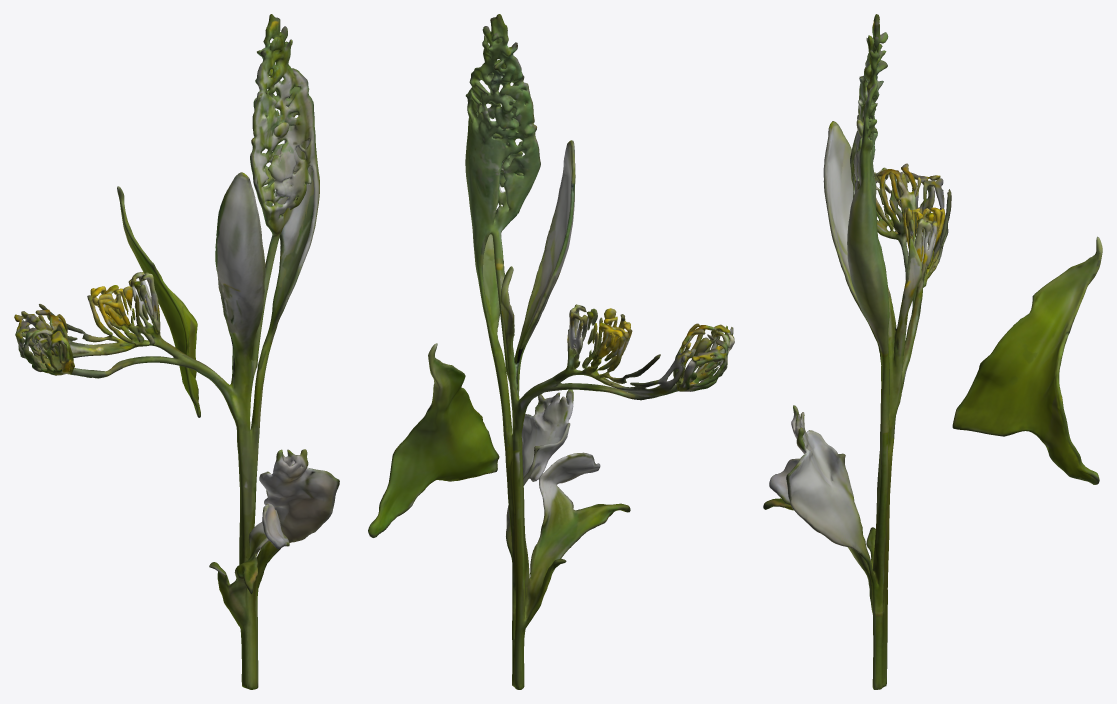
File: herb0015_dup.gltf
3 renders of one model, left to right at view 1: azimuth 30°, elevation 25°; view 2: azimuth 150°, elevation 25°; view 3: azimuth 270°, elevation 25°, orthographic. The views are drawn at different scales.
Parts seen in each view (by area): view 1: Mesh_0.012; view 2: Mesh_0.012; view 3: Mesh_0.012.
Boxes of the visible parts, bbox=[...] form: Mesh_0.012: bbox=[14, 14, 339, 689]; Mesh_0.012: bbox=[368, 14, 734, 689]; Mesh_0.012: bbox=[763, 14, 1102, 689].
Size of the model in its own units: 0.881 by 2 by 0.9015.
Materials: 1 (1 with a texture image).
